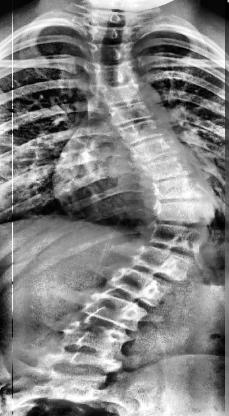Vertebrae: (58, 318, 130, 358), (78, 290, 146, 330), (107, 264, 171, 306), (128, 244, 194, 284), (44, 348, 121, 380), (145, 222, 211, 254), (152, 197, 216, 229), (126, 132, 187, 162), (148, 174, 212, 202), (113, 117, 173, 145), (142, 152, 198, 178), (97, 80, 150, 107), (104, 99, 158, 125), (91, 60, 143, 86), (86, 40, 140, 64), (89, 9, 139, 29), (87, 23, 136, 42)
